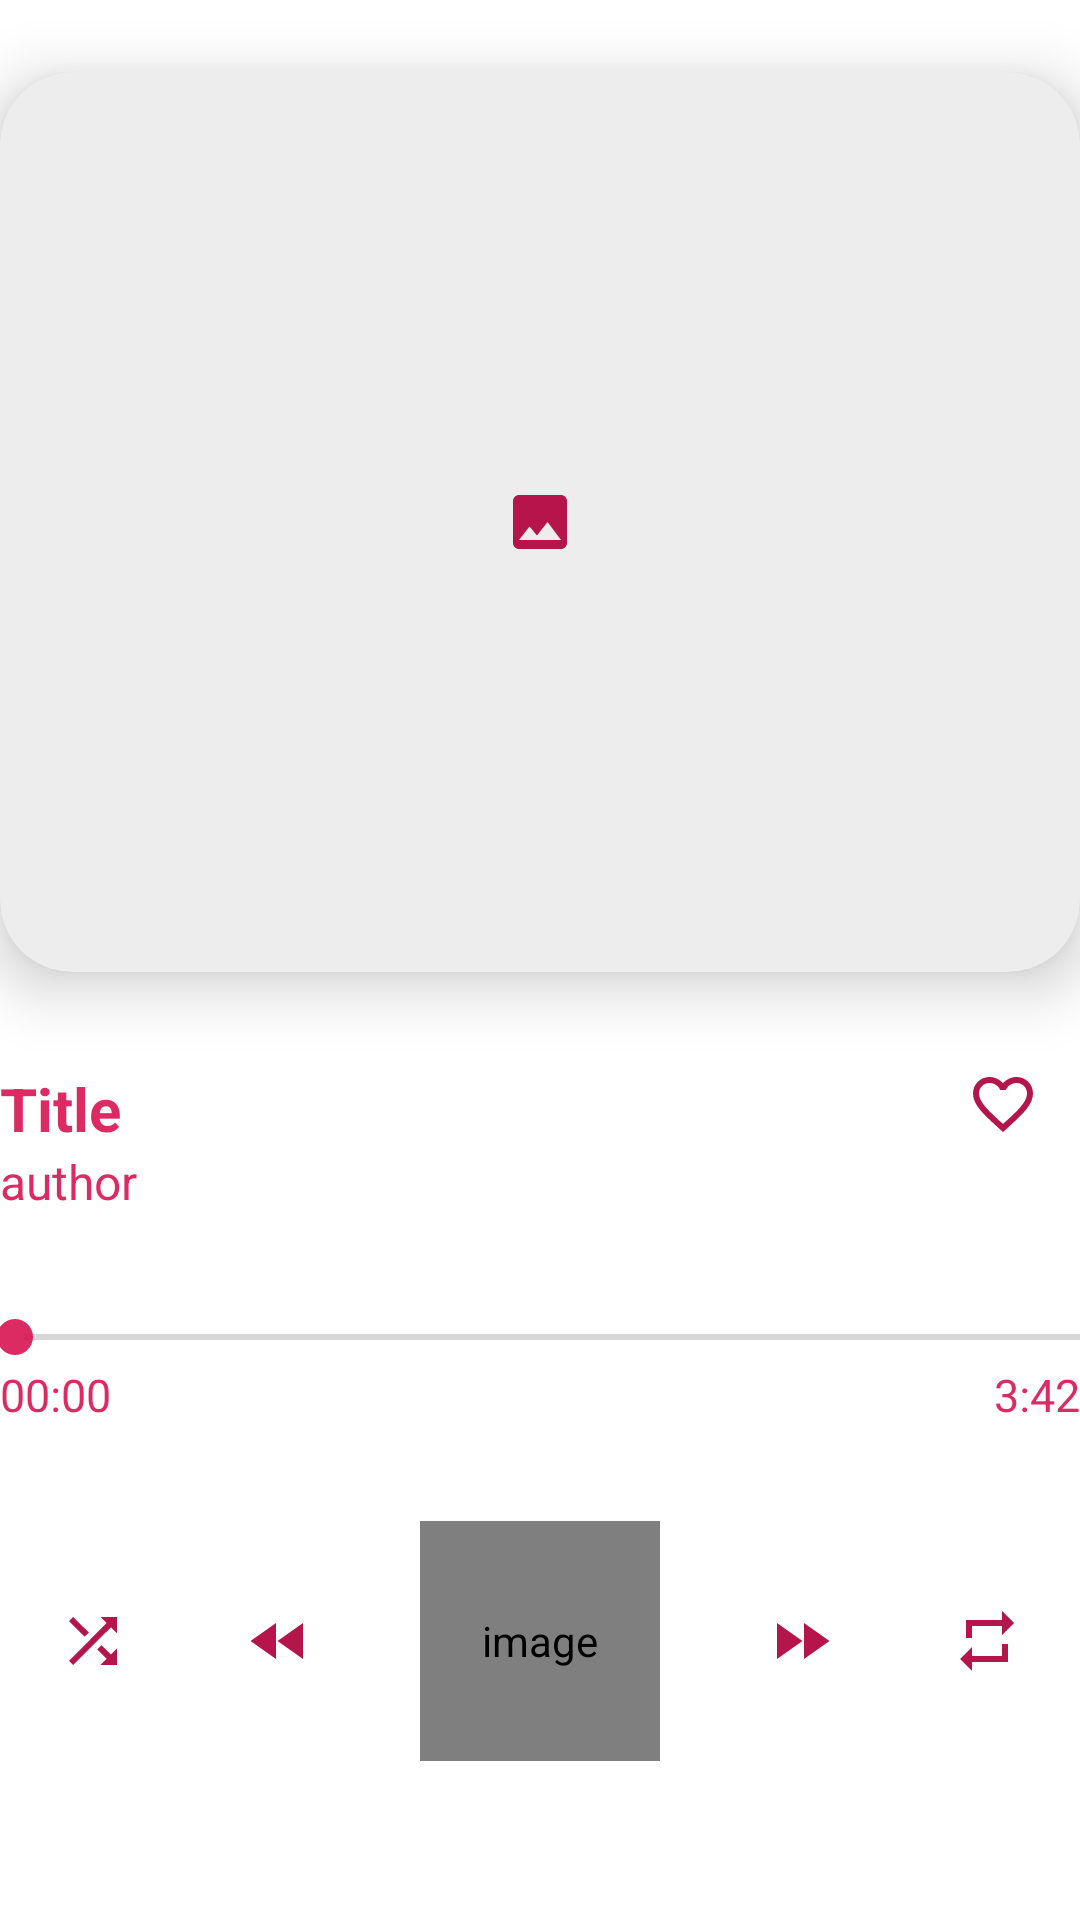

Locate icon controls on the screen. Image size 1080w x 1920h, boxes as bbox(x1, y1, x2, y2).
fast forward: bbox(777, 1623, 829, 1659)
fast rewind: bbox(251, 1623, 303, 1659)
favorite: bbox(973, 1077, 1033, 1132)
repeat: bbox(960, 1611, 1014, 1671)
shuffle: bbox(69, 1617, 117, 1665)
